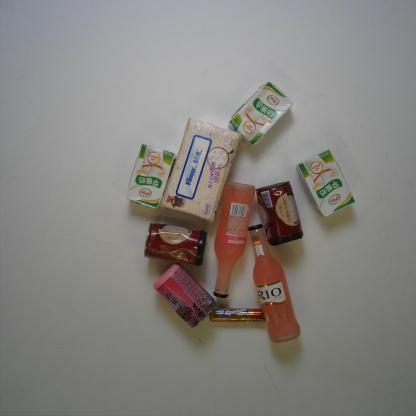Alcohol: (248, 224, 301, 343), (212, 180, 256, 298)
Candy: (209, 307, 266, 324)
Canned Food: (153, 262, 217, 328), (256, 181, 304, 246), (144, 222, 207, 267)
Milk: (228, 81, 293, 147), (296, 149, 356, 218), (126, 143, 176, 210)
Tissue: (160, 118, 242, 222)
